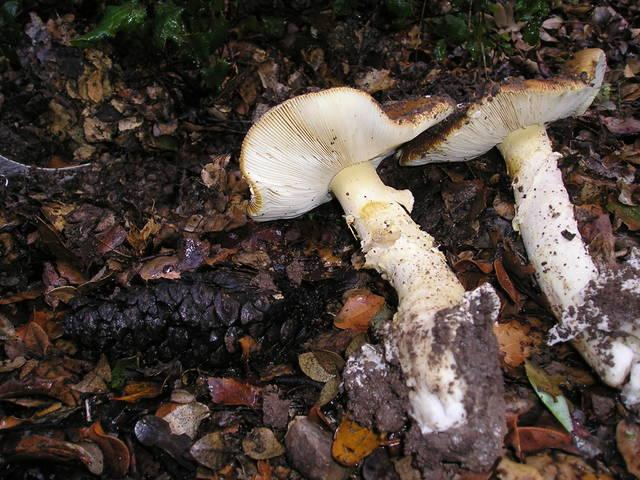Edible Mushroom: (238, 84, 508, 475), (395, 46, 638, 410)
